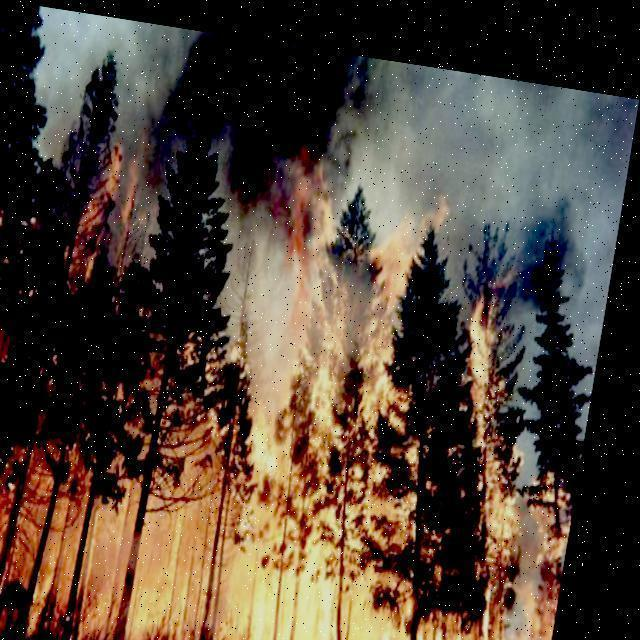Fire: (0, 137, 618, 639)
